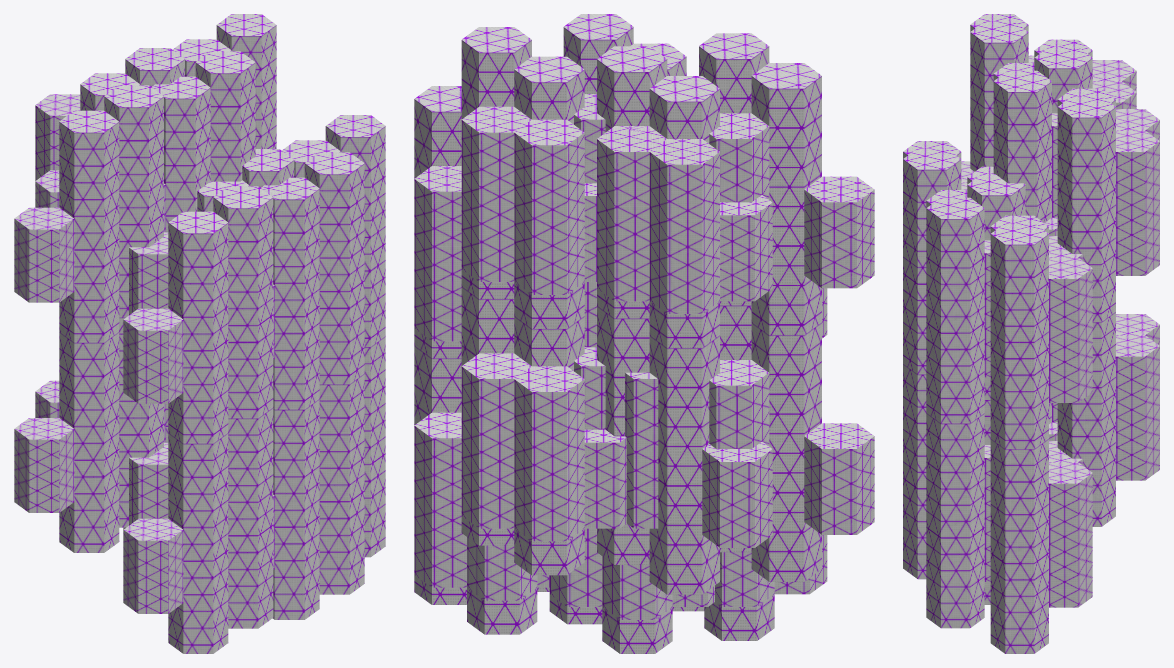
The model's file is Hexx.fbx.
3 renders of one model, left to right at view 1: azimuth 30°, elevation 25°; view 2: azimuth 150°, elevation 25°; view 3: azimuth 270°, elevation 25°, orthographic. The views are drawn at different scales.
Visible parts, largest first — view 1: polySurface83; view 2: polySurface83; view 3: polySurface83.
Boxes of the visible parts, x1=… form: polySurface83: x1=14, y1=14, x2=385, y2=653; polySurface83: x1=414, y1=14, x2=874, y2=653; polySurface83: x1=903, y1=14, x2=1159, y2=653.
Bounding box in the file's own units: 18.91 × 26.03 × 11.77.
1 material, 1 textured.
